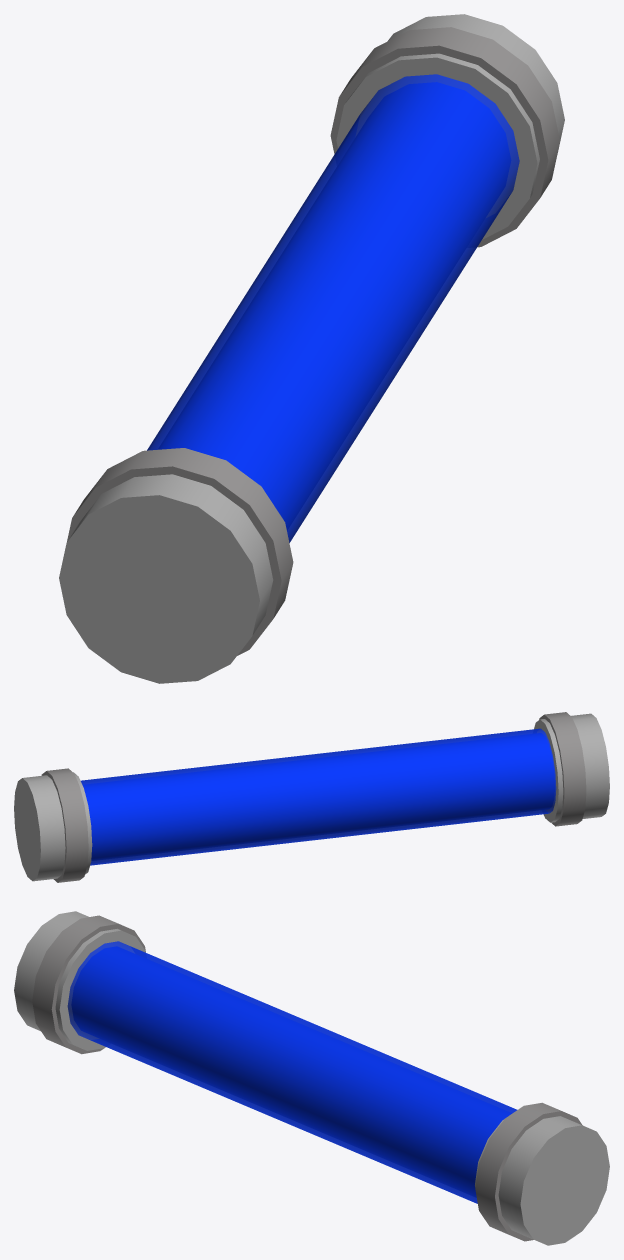
File: CMU3DTreasureSampleTubeDrinksExtraCloudStabilizer.glb
3 renders of one model, top to bottom at view 1: azimuth 30°, elevation 25°; view 2: azimuth 150°, elevation 25°; view 3: azimuth 270°, elevation 25°, orthographic. The views are drawn at different scales.
Visible parts, largest first — view 1: translucent tube envelope, continuous sample inner body, closed grey end plug 0, closed grey end plug 1, plug raised collar 1, plug raised collar 0; view 2: translucent tube envelope, continuous sample inner body, closed grey end plug 1, closed grey end plug 0, plug raised collar 1, plug raised collar 0; view 3: translucent tube envelope, continuous sample inner body, closed grey end plug 1, closed grey end plug 0, plug raised collar 0, plug raised collar 1.
Boxes of the visible parts, x1=… form: translucent tube envelope: x1=147, y1=74, x2=519, y2=542; continuous sample inner body: x1=159, y1=82, x2=510, y2=529; closed grey end plug 0: x1=59, y1=474, x2=273, y2=683; closed grey end plug 1: x1=336, y1=14, x2=564, y2=239; plug raised collar 1: x1=330, y1=27, x2=560, y2=247; plug raised collar 0: x1=67, y1=448, x2=293, y2=655; translucent tube envelope: x1=81, y1=728, x2=556, y2=865; continuous sample inner body: x1=83, y1=733, x2=554, y2=860; closed grey end plug 1: x1=14, y1=772, x2=92, y2=881; closed grey end plug 0: x1=534, y1=713, x2=609, y2=822; plug raised collar 1: x1=41, y1=768, x2=88, y2=882; plug raised collar 0: x1=539, y1=712, x2=586, y2=826; translucent tube envelope: x1=67, y1=941, x2=517, y2=1203; continuous sample inner body: x1=72, y1=947, x2=511, y2=1196; closed grey end plug 1: x1=475, y1=1116, x2=609, y2=1245; closed grey end plug 0: x1=14, y1=911, x2=145, y2=1050; plug raised collar 0: x1=32, y1=915, x2=145, y2=1054; plug raised collar 1: x1=475, y1=1102, x2=582, y2=1241.
Size of the model in its own units: 0.452 by 0.104 by 0.452.
